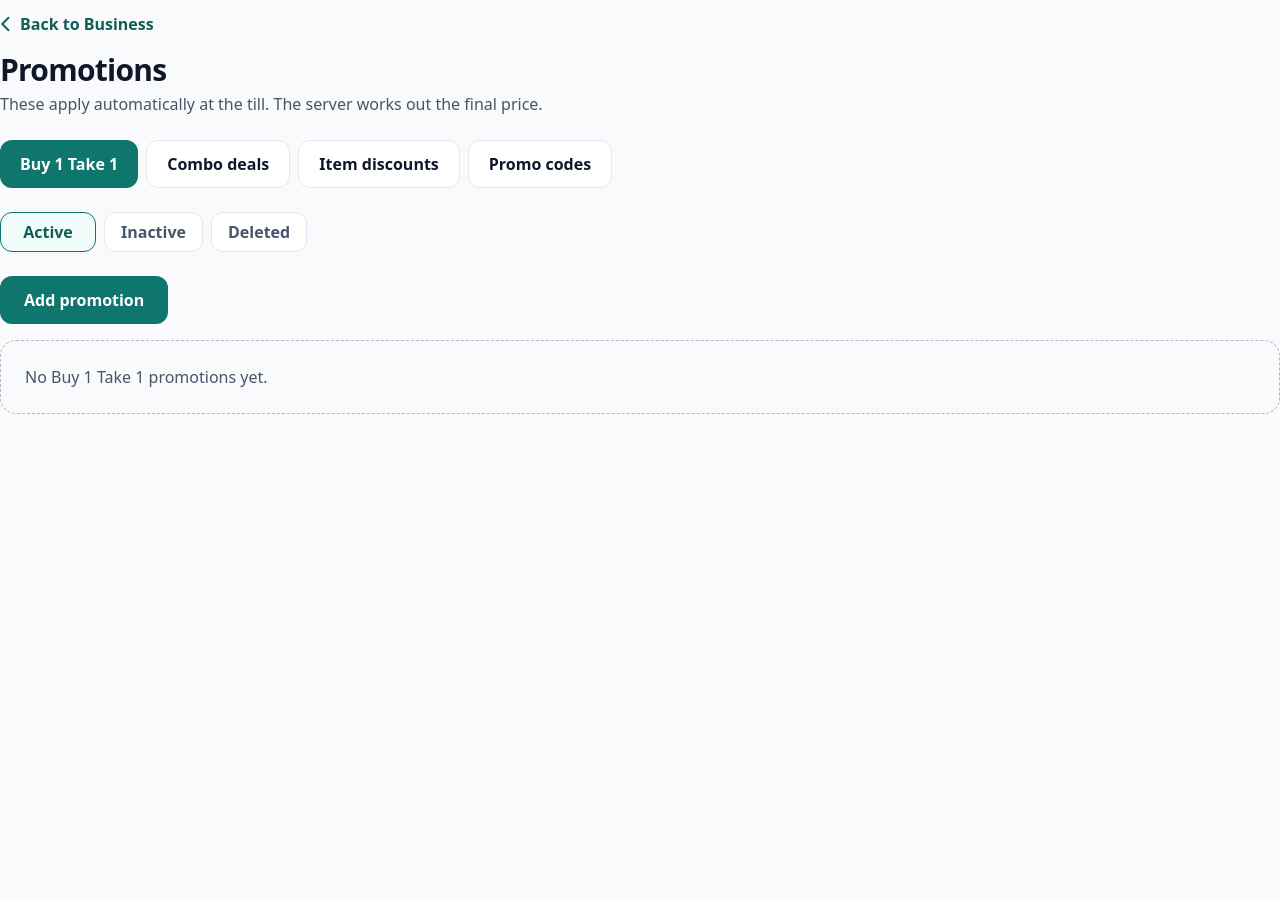
Test: PromotionsPage › blocks submit and explains what is missing
expect the text "No Buy 1 Take 1 promotions yet." is shown: met, box [0,340,1279,414]
Click the button "Add promotion": (84, 300) [0,276,168,324]
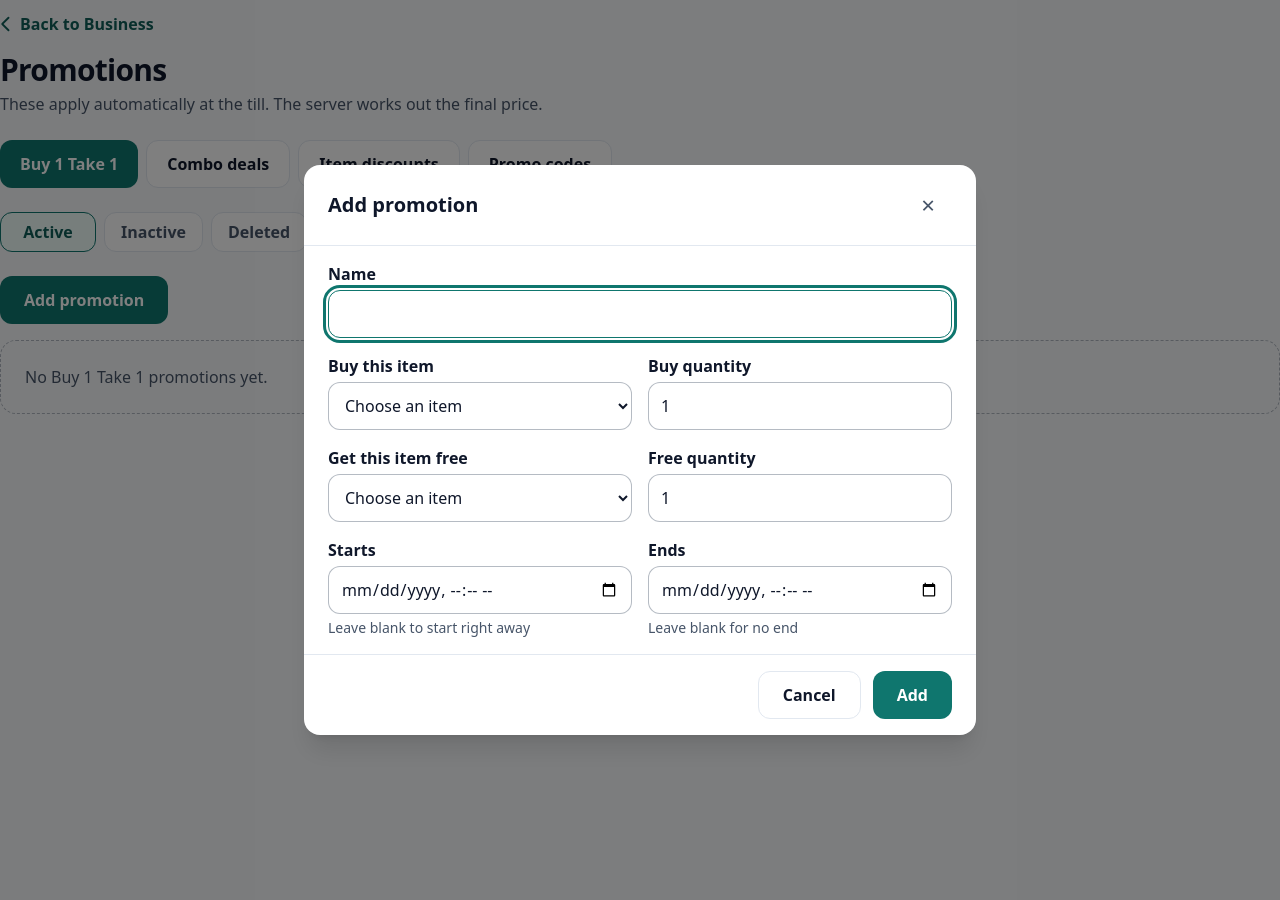
Click the button "Add": (912, 695) [873,671,952,719]
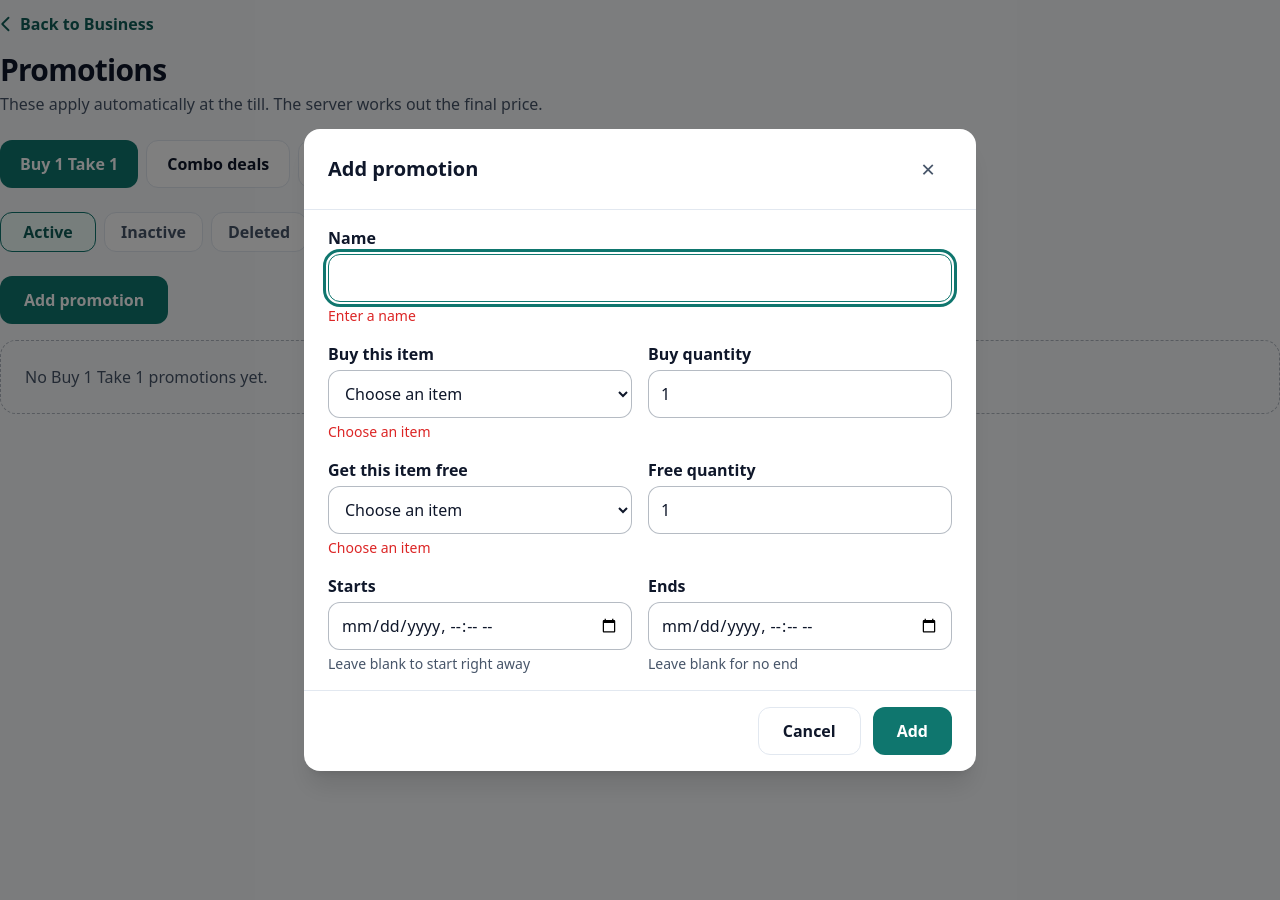
expect the text "Enter a name" is shown: met, box [328,306,416,325]
